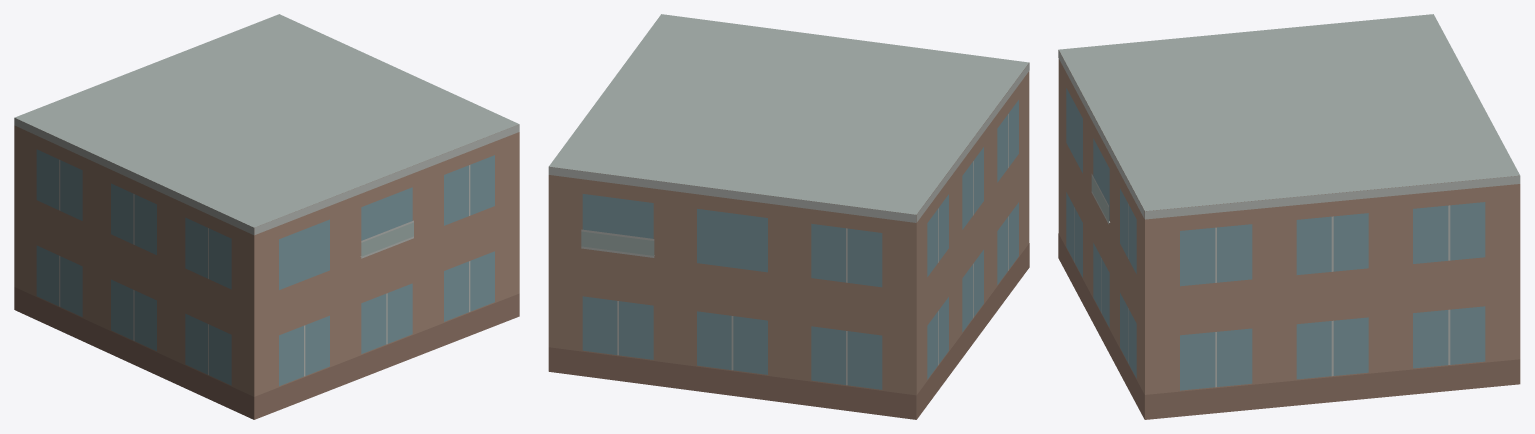
Rendered from survey-upis-32823140.glb.
3 views of the same model, side by side, from view 1: azimuth 30°, elevation 25°; view 2: azimuth 150°, elevation 25°; view 3: azimuth 270°, elevation 25° (orthographic). The views are drawn at different scales.
Parts seen in each view (by area): view 1: survey-upis-32823140.tmp; view 2: survey-upis-32823140.tmp; view 3: survey-upis-32823140.tmp.
Part boxes in pixels (left/top/right/bottom): survey-upis-32823140.tmp: left=14, top=14, right=519, bottom=419; survey-upis-32823140.tmp: left=548, top=14, right=1029, bottom=419; survey-upis-32823140.tmp: left=1058, top=14, right=1520, bottom=419.
Size of the model in its own units: 12.37 by 6.1 by 12.25.
